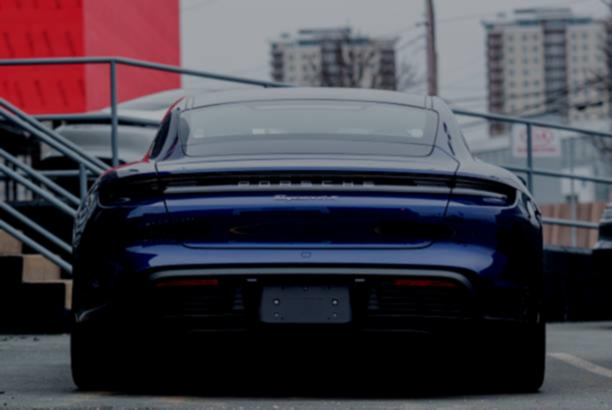porsche: (223, 171, 381, 193)
